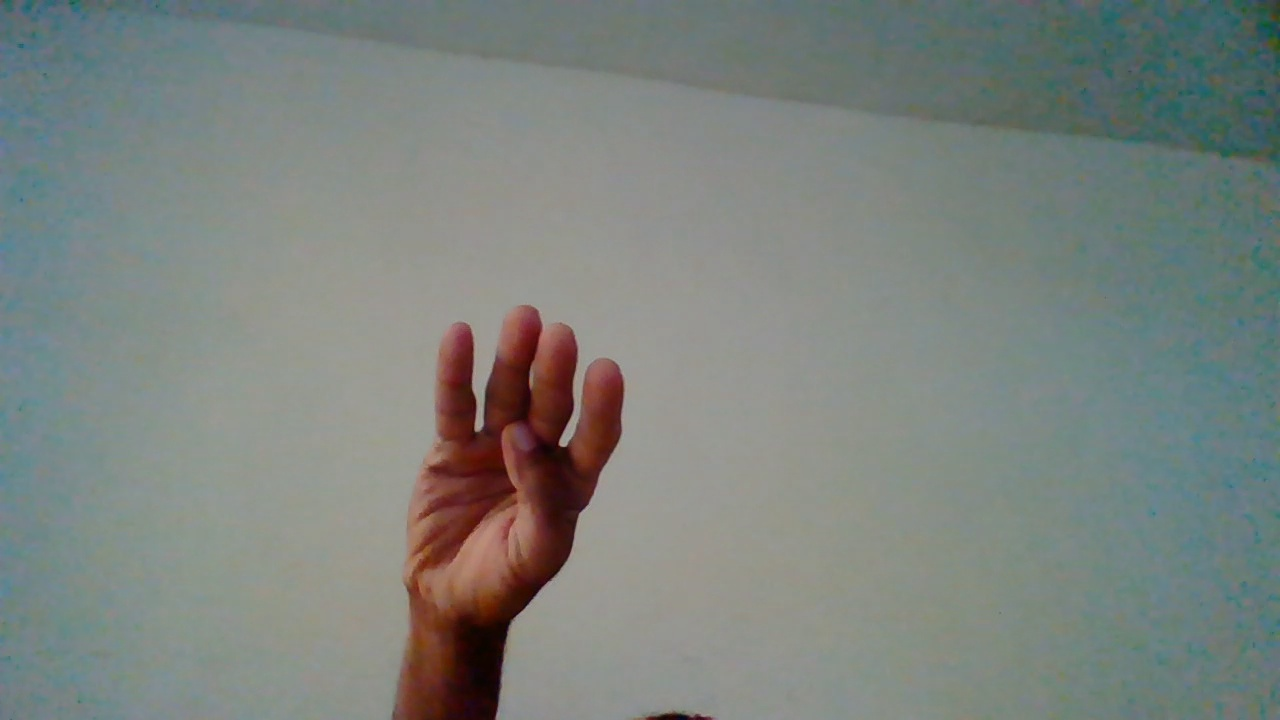me: (407, 303, 656, 702)
